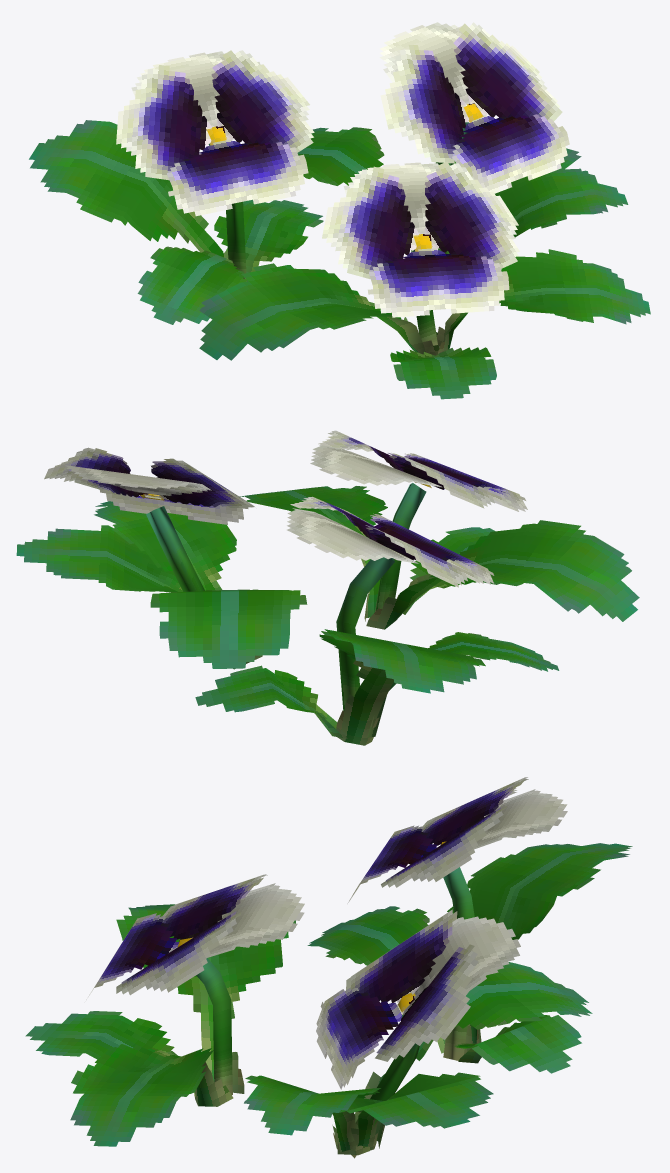
The model's file is white-pansies.glb.
3 views of the same model, one above another, from view 1: azimuth 30°, elevation 25°; view 2: azimuth 150°, elevation 25°; view 3: azimuth 270°, elevation 25° (orthographic). The views are drawn at different scales.
Size of the model in its own units: 10.83 by 4.92 by 10.68.
Materials: 2 (2 with a texture image).
